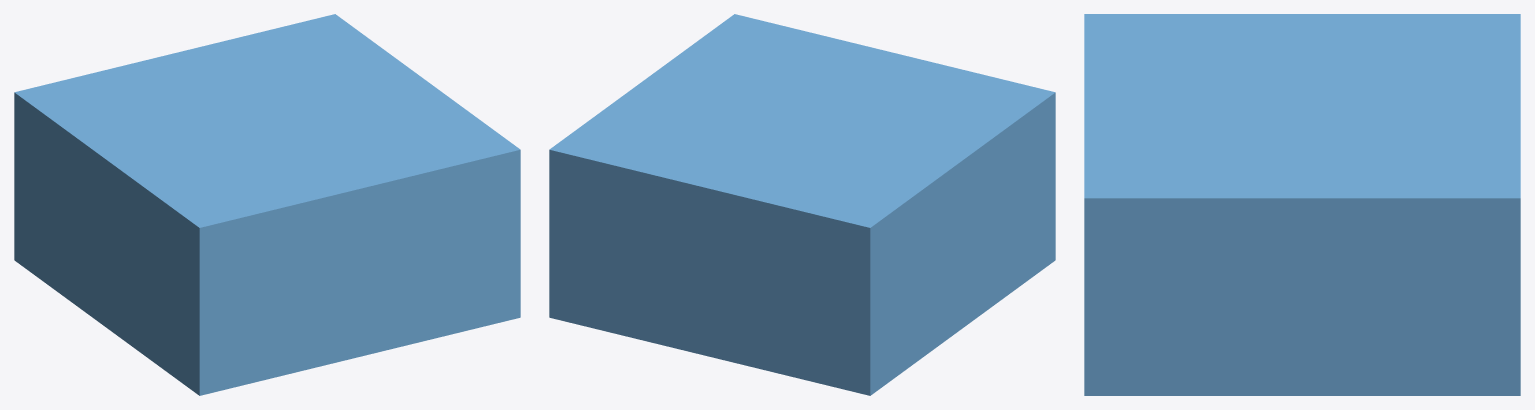
Rendered from Water_TopHalf.glb.
3 renders of one model, left to right at view 1: azimuth 30°, elevation 25°; view 2: azimuth 150°, elevation 25°; view 3: azimuth 270°, elevation 25°, orthographic. The views are drawn at different scales.
Parts seen in each view (by area): view 1: Water_TopHalf_body; view 2: Water_TopHalf_body; view 3: Water_TopHalf_body.
Boxes of the visible parts, box(x1,y1,x2,y2) form: Water_TopHalf_body: box(14, 14, 520, 395); Water_TopHalf_body: box(549, 14, 1055, 395); Water_TopHalf_body: box(1084, 14, 1520, 395).
Bounding box in the file's own units: 1 × 0.5 × 1.
